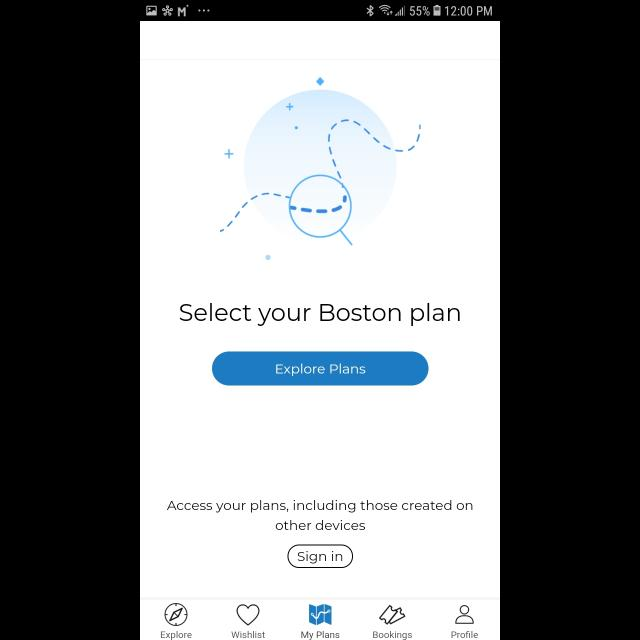icon: (378, 605, 406, 625), (166, 602, 188, 626), (236, 603, 260, 625), (308, 603, 332, 625), (454, 606, 474, 624)
image: (219, 77, 421, 261)
text: (167, 500, 473, 530), (180, 302, 460, 326), (372, 630, 412, 640), (301, 630, 339, 640), (162, 630, 192, 640), (231, 630, 265, 638), (450, 630, 478, 638)
textbutton: (212, 352, 428, 386), (287, 544, 353, 568)
uppertaskbar: (140, 1, 500, 22)
